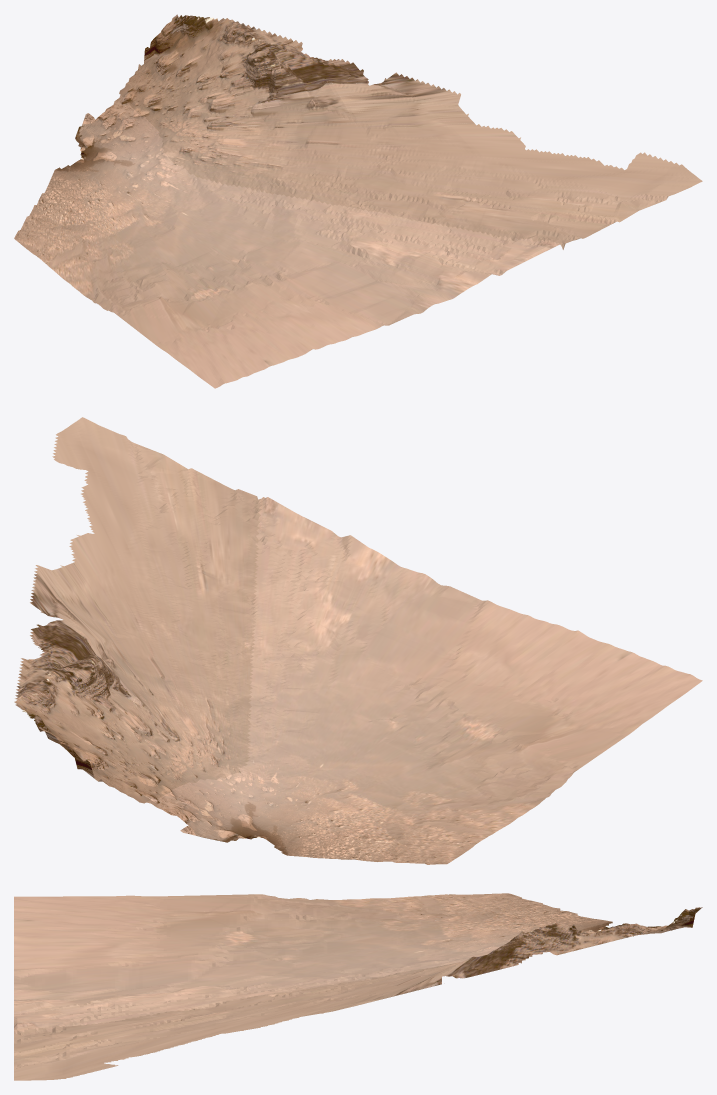
File: photo-support.glb
3 renders of one model, top to bottom at view 1: azimuth 30°, elevation 25°; view 2: azimuth 150°, elevation 25°; view 3: azimuth 270°, elevation 25°, orthographic. The views are drawn at different scales.
Bounding box in the file's own units: 39.8 × 8.98 × 39.6.
4 materials, 4 textured.
